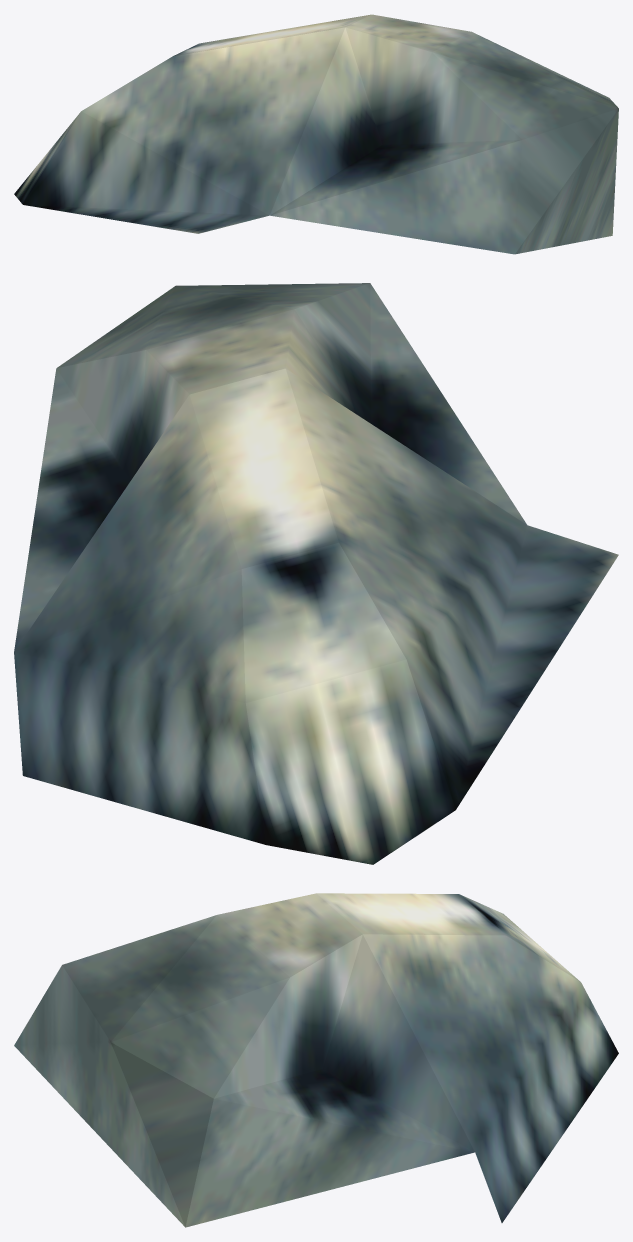
File: skull01.glb
3 views of the same model, one above another, from view 1: azimuth 30°, elevation 25°; view 2: azimuth 150°, elevation 25°; view 3: azimuth 270°, elevation 25° (orthographic). The views are drawn at different scales.
Parts seen in each view (by area): view 1: skull01; view 2: skull01; view 3: skull01.
Part boxes in pixels (x1,y1,x2,y2): skull01: (14, 14, 618, 254); skull01: (14, 283, 618, 864); skull01: (14, 893, 618, 1227).
Size of the model in its own units: 1928 by 1088 by 2162.
Materials: 1 (1 with a texture image).
